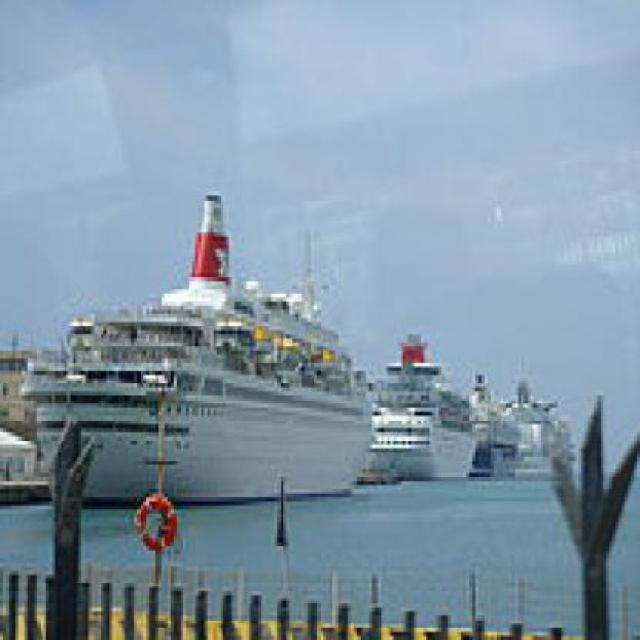cruise: (14, 168, 383, 506)
